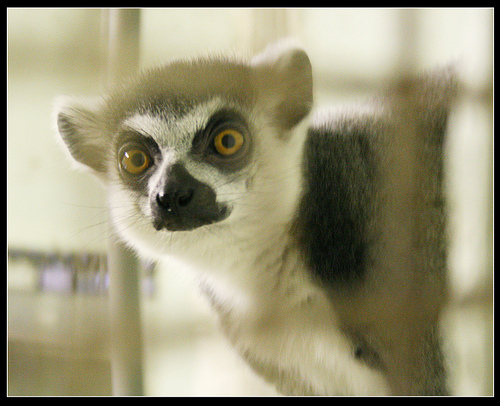cat: (53, 39, 493, 396)
